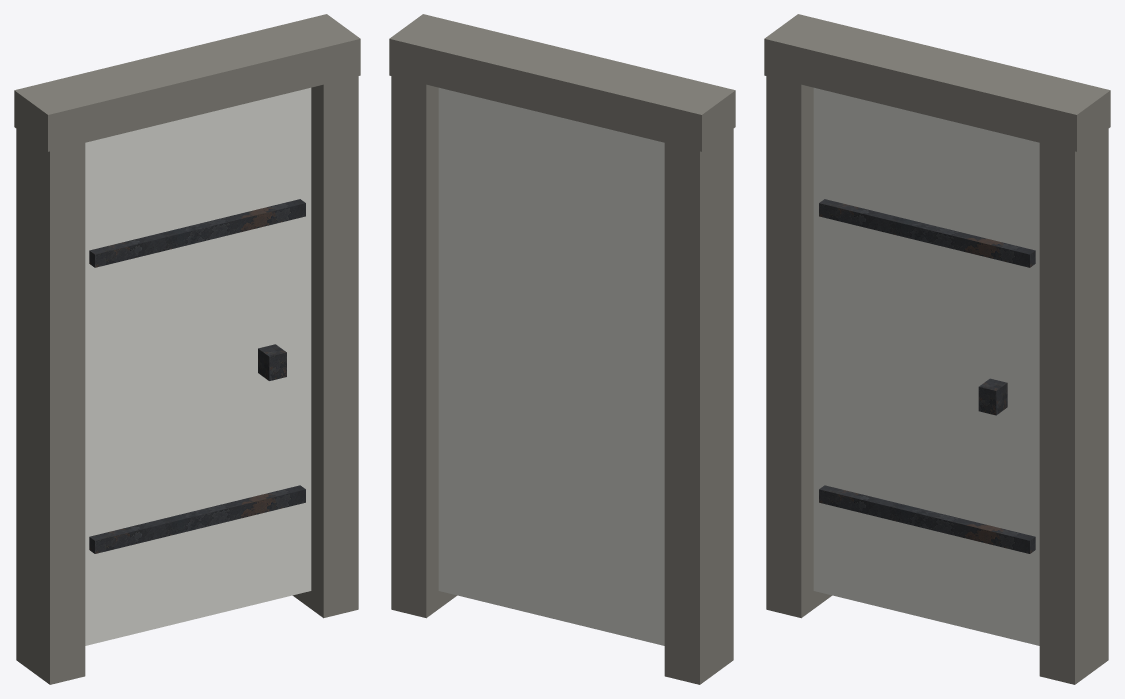
The model's file is door_rect_blue.glb.
3 renders of one model, left to right at view 1: azimuth 30°, elevation 25°; view 2: azimuth 150°, elevation 25°; view 3: azimuth 330°, elevation 25°, orthographic.
Parts seen in each view (by area): view 1: door_rect_blue; view 2: door_rect_blue; view 3: door_rect_blue.
Boxes of the visible parts, x1,y1,x2,y2 form: door_rect_blue: (14, 14, 360, 684); door_rect_blue: (389, 14, 735, 684); door_rect_blue: (764, 14, 1110, 684).
Bounding box in the file's own units: 1.6 × 2.79 × 0.33.
